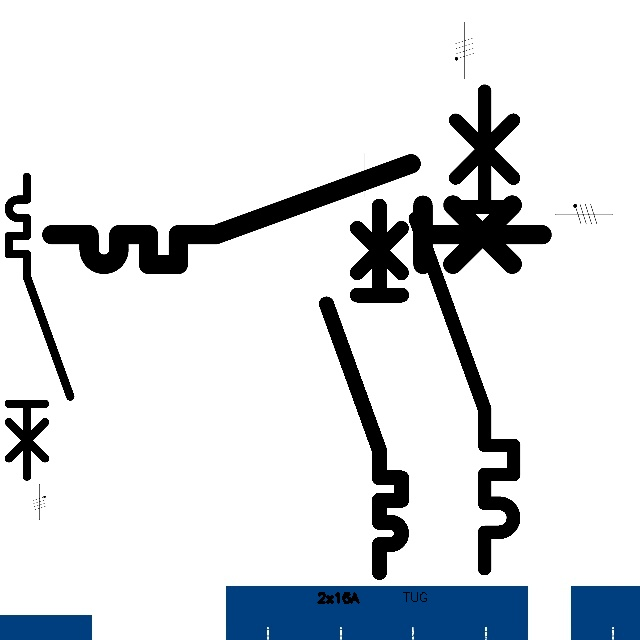interruptor_termomagnetico: (39, 151, 555, 277), (403, 78, 526, 580), (317, 196, 411, 581), (1, 169, 78, 484)
